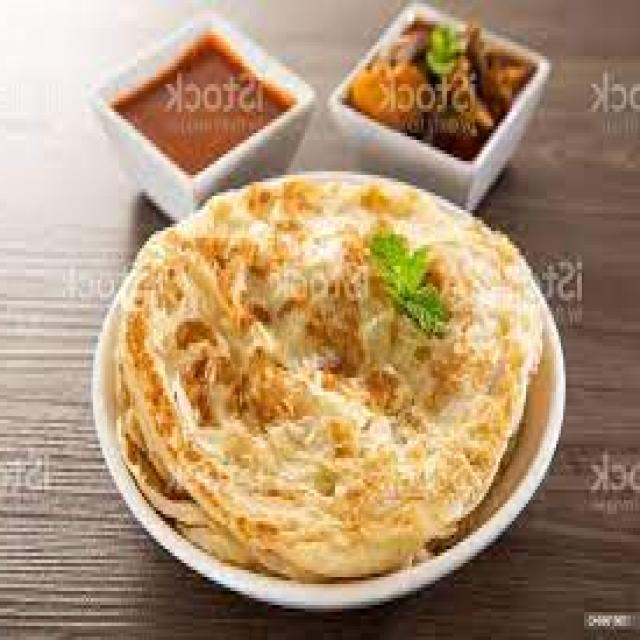Paratha: (135, 196, 539, 560)
